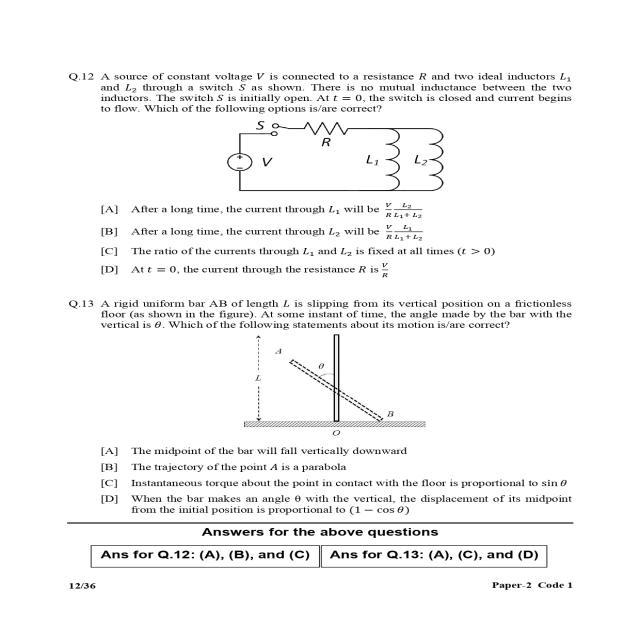Answer_Block: (49, 427, 606, 522), (49, 199, 606, 278)
Description: (49, 523, 606, 579)
Question_Answer_Block: (49, 282, 606, 526), (49, 57, 606, 280)
Question_Block: (49, 283, 606, 433), (49, 57, 606, 202)
Question_Paper_Area: (49, 56, 606, 576)
